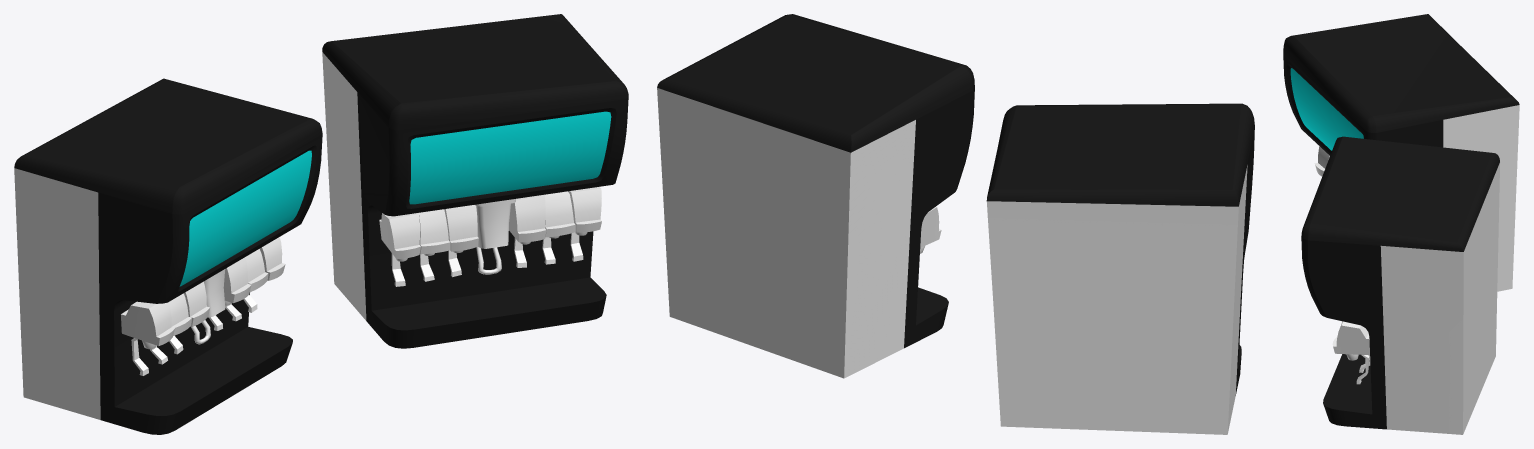
Rendered from stylized-soda-fountain-low-poly.fbx.
The picture shows the model from 3 angles, left to right: view 1: azimuth 30°, elevation 25°; view 2: azimuth 150°, elevation 25°; view 3: azimuth 270°, elevation 25°; orthographic projection. The views are drawn at different scales.
Visible parts, largest first — view 1: SM_SodaFountainB_SodaFountainB_0, SM_SodaFountainA_SodaFountainA_0; view 2: SM_SodaFountainB_SodaFountainB_0, SM_SodaFountainA_SodaFountainA_0; view 3: SM_SodaFountainB_SodaFountainB_0, SM_SodaFountainA_SodaFountainA_0.
Part boxes in pixels (bbox=[...]): SM_SodaFountainB_SodaFountainB_0: bbox=[322, 14, 628, 348]; SM_SodaFountainA_SodaFountainA_0: bbox=[14, 78, 322, 434]; SM_SodaFountainB_SodaFountainB_0: bbox=[657, 14, 974, 378]; SM_SodaFountainA_SodaFountainA_0: bbox=[986, 103, 1254, 434]; SM_SodaFountainB_SodaFountainB_0: bbox=[1301, 136, 1500, 434]; SM_SodaFountainA_SodaFountainA_0: bbox=[1283, 14, 1519, 291].
Size of the model in its own units: 250 by 107 by 110.
